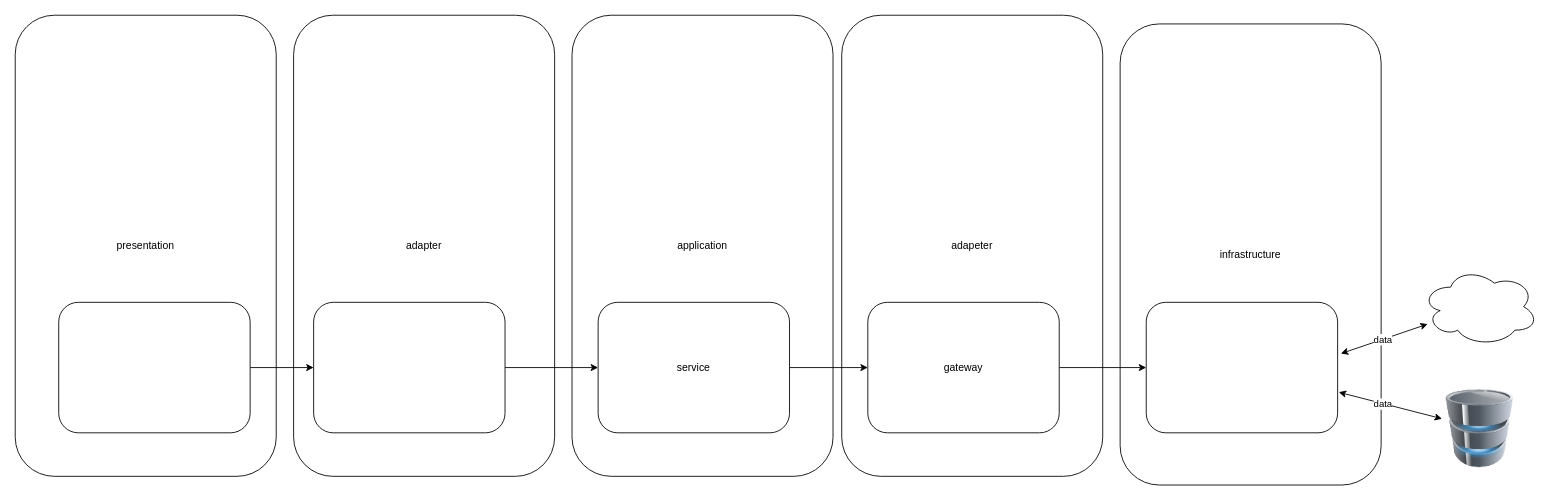
The diagram is 1554 pixels wide and 500 high, and some of its shapes have lost their labels. The shapes that lost their labels are listed below. From the top down, each one's centre as x and y in pixels, then its label:
At pixel 154 367: "qml".
At pixel 409 367: "controller".
At pixel 1241 367: "access".
